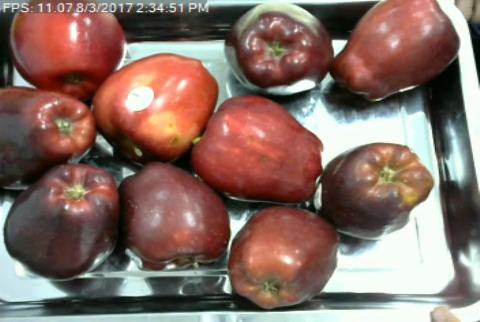Apple: (188, 93, 326, 208), (88, 51, 223, 166), (0, 161, 125, 283), (328, 0, 465, 102), (114, 159, 233, 274), (309, 140, 438, 241), (224, 202, 342, 310), (7, 0, 129, 100), (223, 0, 338, 95), (0, 81, 98, 181)
